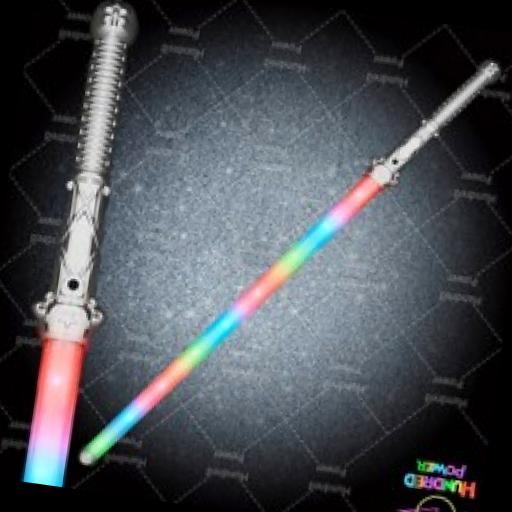lightsaber: (80, 10, 501, 512), (9, 0, 146, 489)
